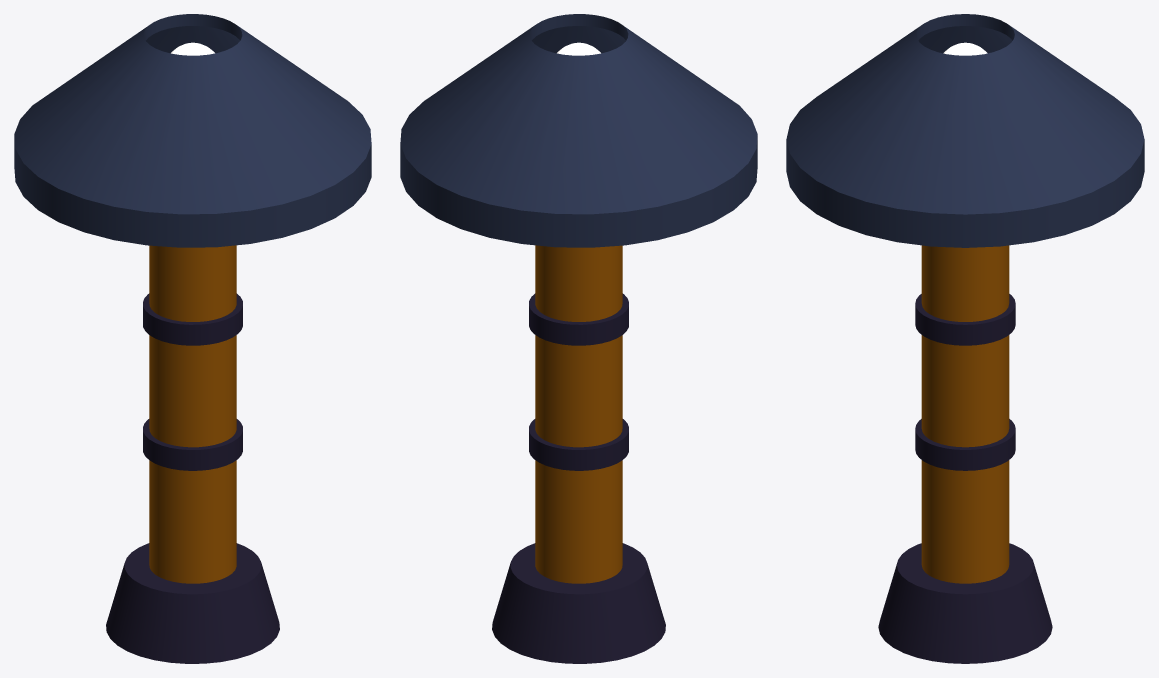
Rendered from lamp.fbx.
3 renders of one model, left to right at view 1: azimuth 30°, elevation 25°; view 2: azimuth 150°, elevation 25°; view 3: azimuth 270°, elevation 25°, orthographic.
Visible parts, largest first — view 1: Lamp; view 2: Lamp; view 3: Lamp.
Part boxes in pixels (left/top/right/bottom): Lamp: left=14, top=14, right=371, bottom=663; Lamp: left=400, top=14, right=757, bottom=663; Lamp: left=786, top=14, right=1144, bottom=663.
Size of the model in its own units: 311 by 568 by 311.
